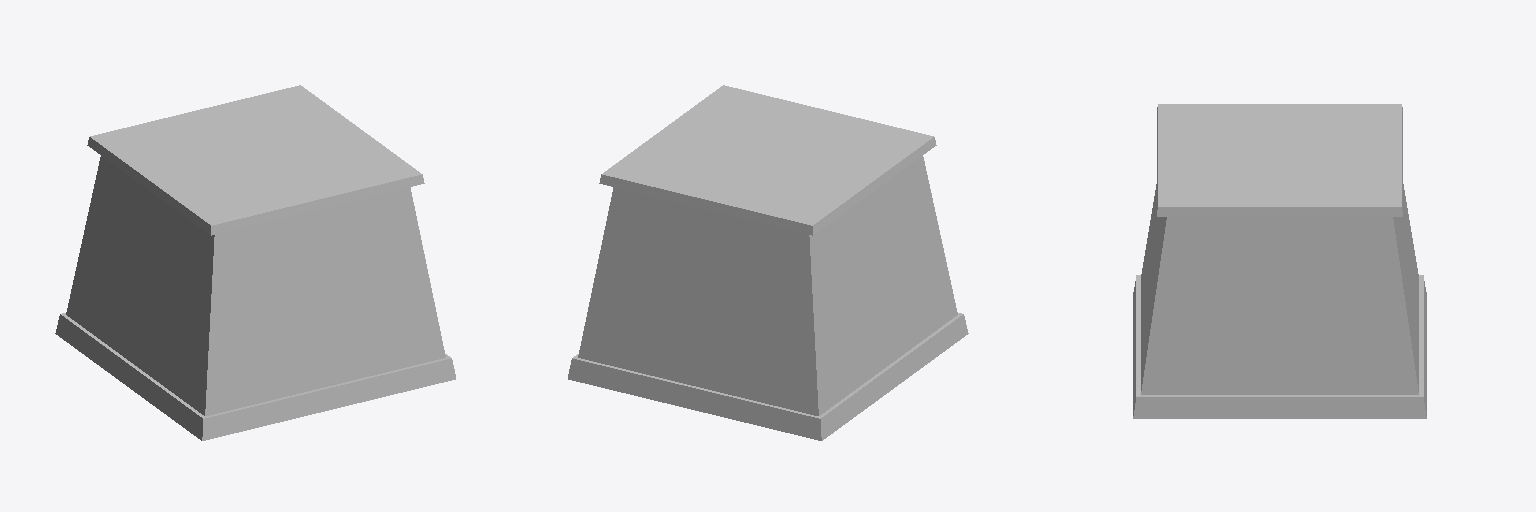
File: Platform.obj
3 renders of one model, left to right at view 1: azimuth 30°, elevation 25°; view 2: azimuth 150°, elevation 25°; view 3: azimuth 270°, elevation 25°, orthographic.
Visible parts, largest first — view 1: Cube; view 2: Cube; view 3: Cube.
Boxes of the visible parts, x1=… form: Cube: x1=55, y1=85, x2=455, y2=440; Cube: x1=568, y1=85, x2=968, y2=440; Cube: x1=1133, y1=104, x2=1426, y2=418.
Bounding box in the file's own units: 13.25 × 10.01 × 13.25.